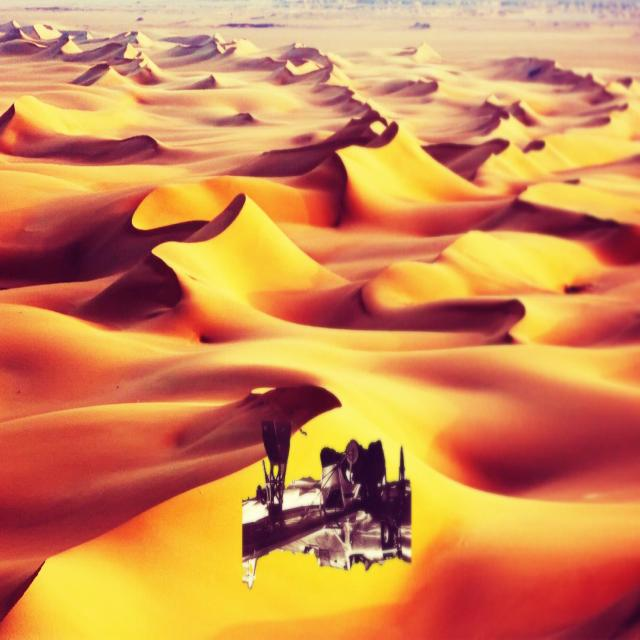airplane: (241, 418, 412, 590)
